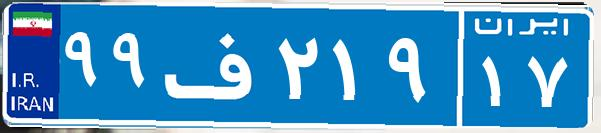1: (330, 28, 385, 110), (475, 38, 525, 113)
2: (273, 28, 330, 110)
7: (525, 38, 570, 115)
9: (385, 28, 445, 110), (57, 26, 110, 107), (110, 28, 158, 105)
ف: (158, 15, 273, 115)
